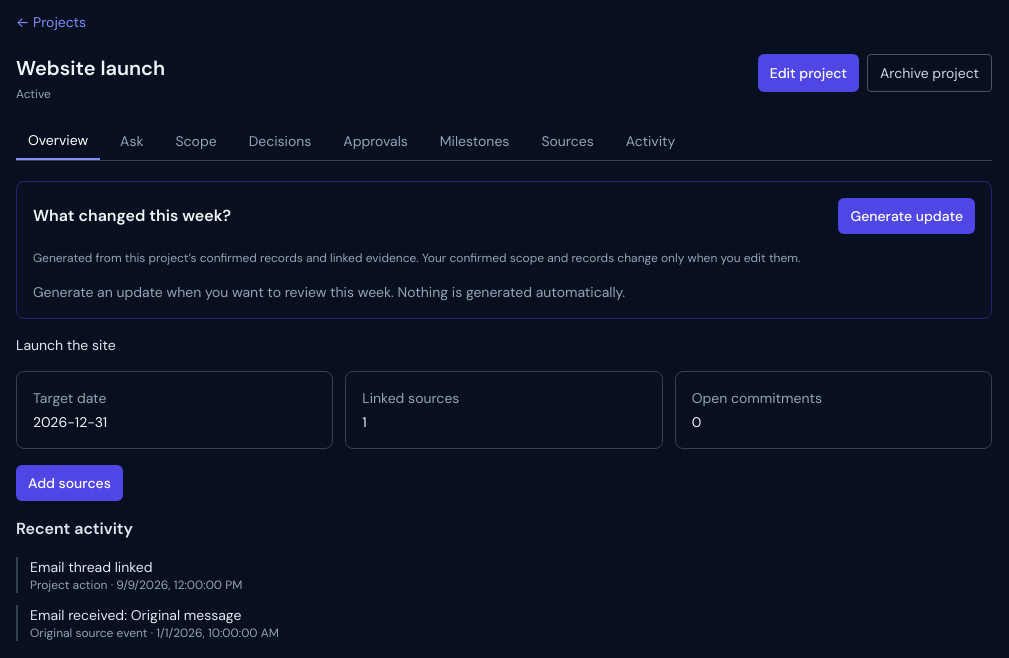
it: shows unavailable sources explicitly and removes only their association
This screenshot has width=1009, height=658.
Click the tab "Sources" at {"x": 568, "y": 141}, box [529,122,606,160]
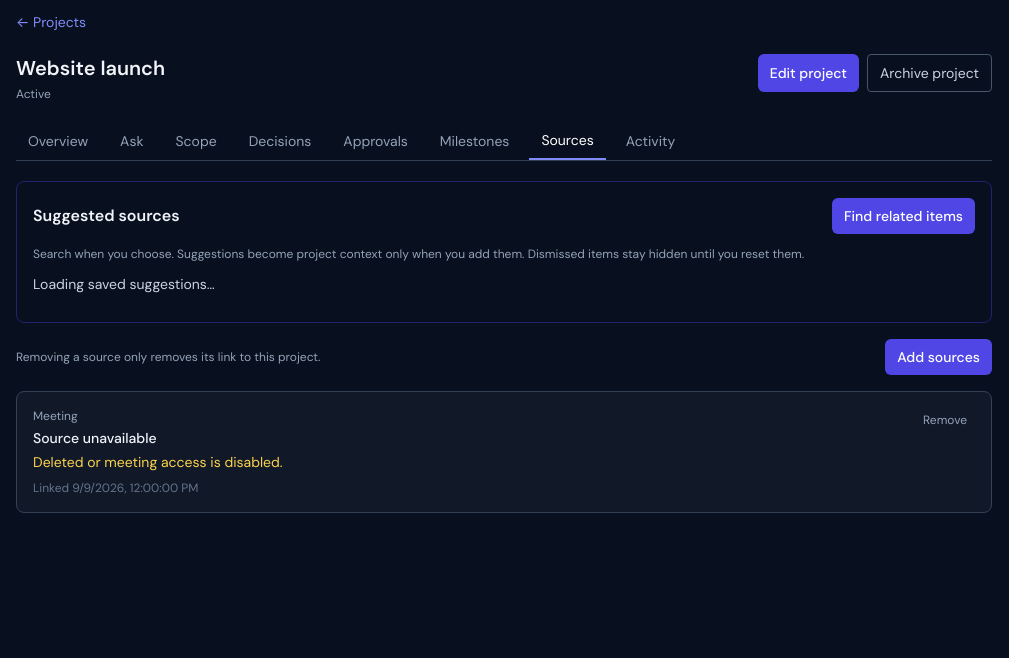
Check: the text "Deleted or meeting access is disabled." is shown, box [33,452,283,472]
Click the button with aria-label "Remove Source unavailable" at {"x": 945, "y": 420}, box [915,408,975,432]
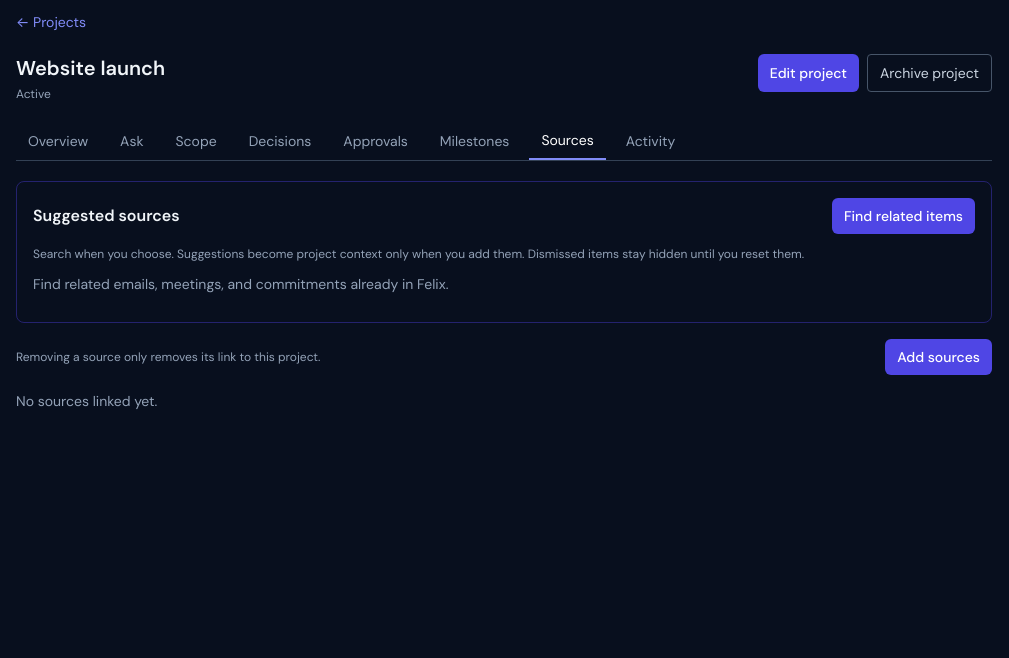
Check: the text "No sources linked yet." is shown, box [16,392,157,410]
